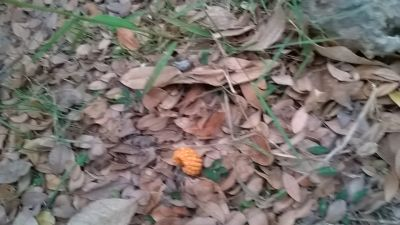eggs: (171, 148, 203, 177)
